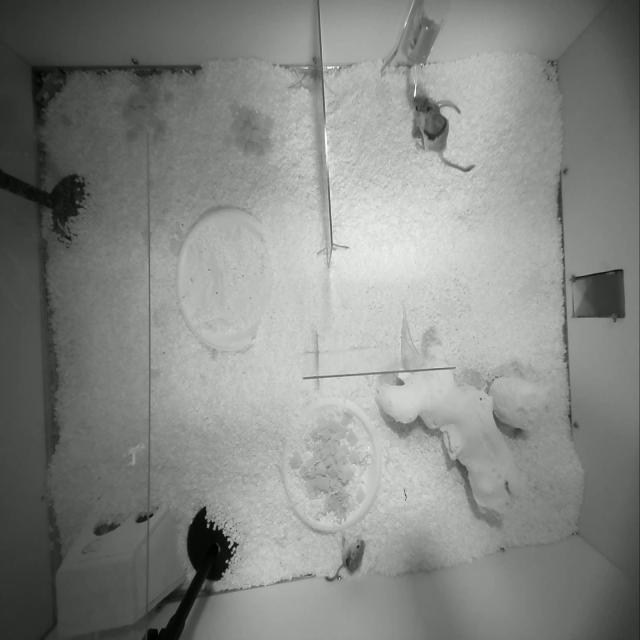adult_front: (413, 96, 475, 172)
pup_fluffy: (435, 100, 461, 113), (412, 122, 421, 140)
pup_v_stripe: (325, 535, 365, 581)
